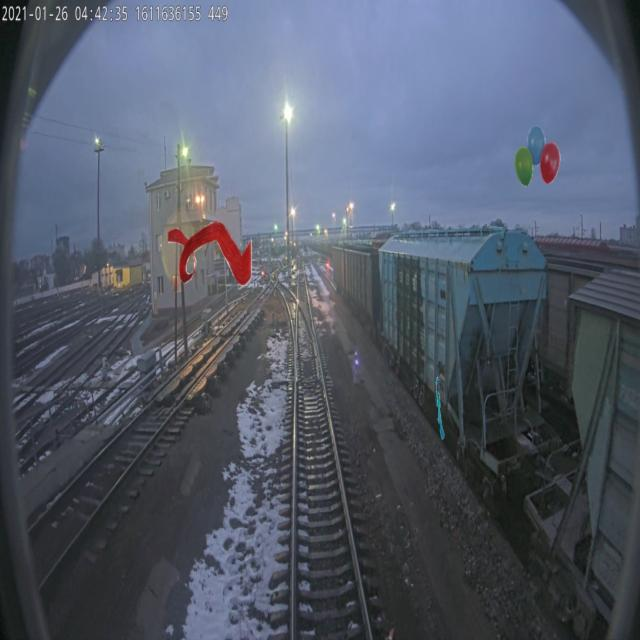balloon: (514, 124, 560, 188)
floating object: (168, 222, 252, 286), (435, 376, 445, 440)
